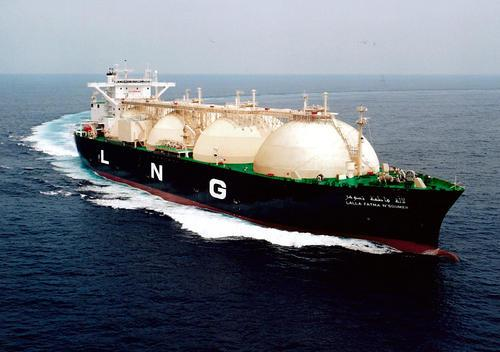Cargoship: (73, 58, 465, 261)
